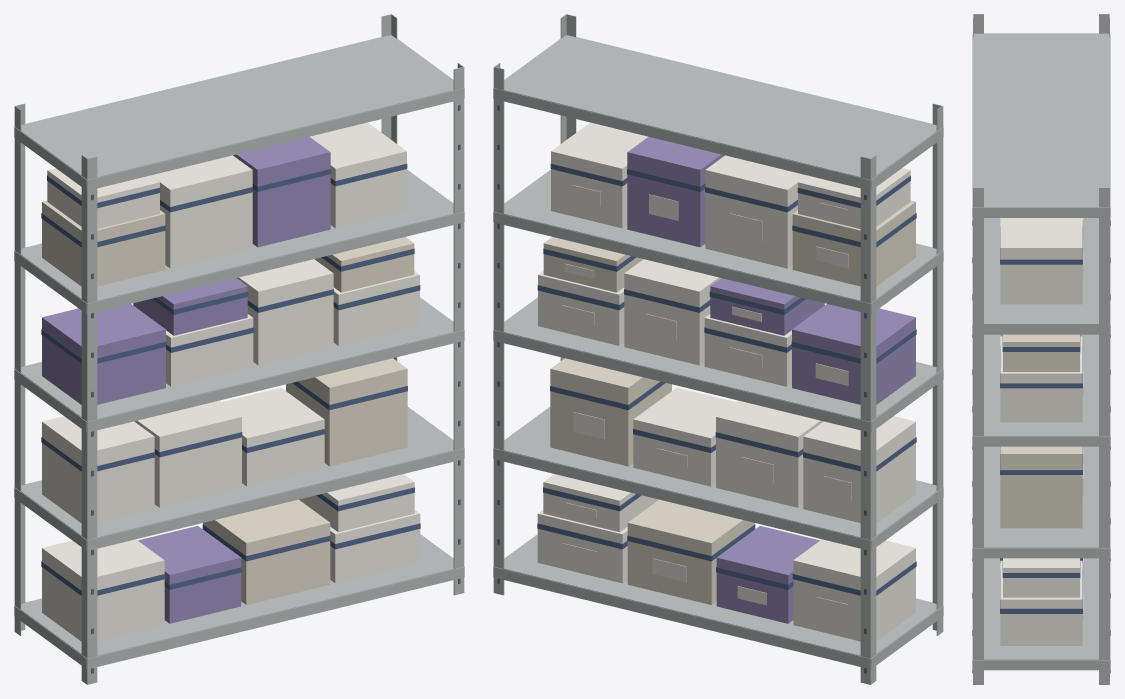
File: angle_rack.fbx
3 renders of one model, left to right at view 1: azimuth 30°, elevation 25°; view 2: azimuth 150°, elevation 25°; view 3: azimuth 270°, elevation 25°, orthographic. The views are drawn at different scales.
Parts seen in each view (by area): view 1: angle_rack; view 2: angle_rack; view 3: angle_rack.
Boxes of the visible parts, x1,y1,x2,y2 form: angle_rack: [14, 14, 464, 684]; angle_rack: [493, 14, 943, 684]; angle_rack: [972, 14, 1110, 684].
Bounding box in the file's own units: 150 × 200 × 50.4.
